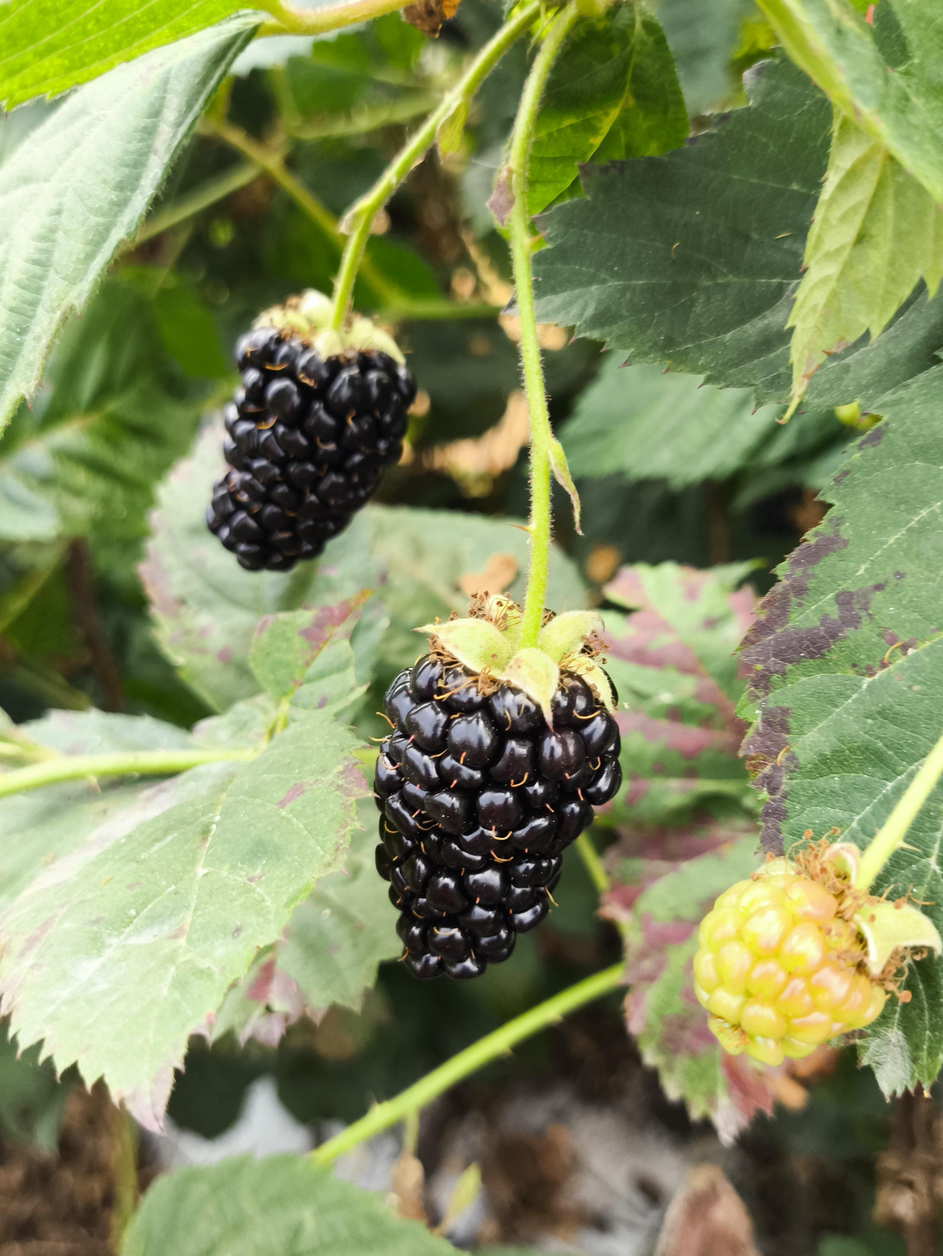maduro: (373, 623, 626, 970), (209, 310, 416, 550)
verde: (702, 854, 883, 1055)
